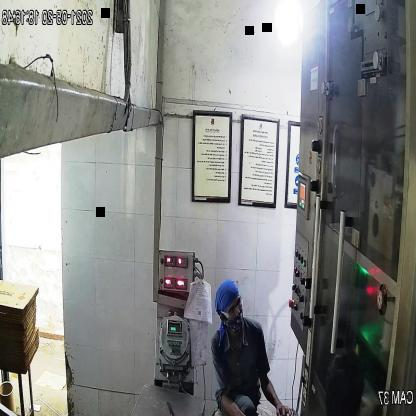goggles: (218, 293, 245, 321)
